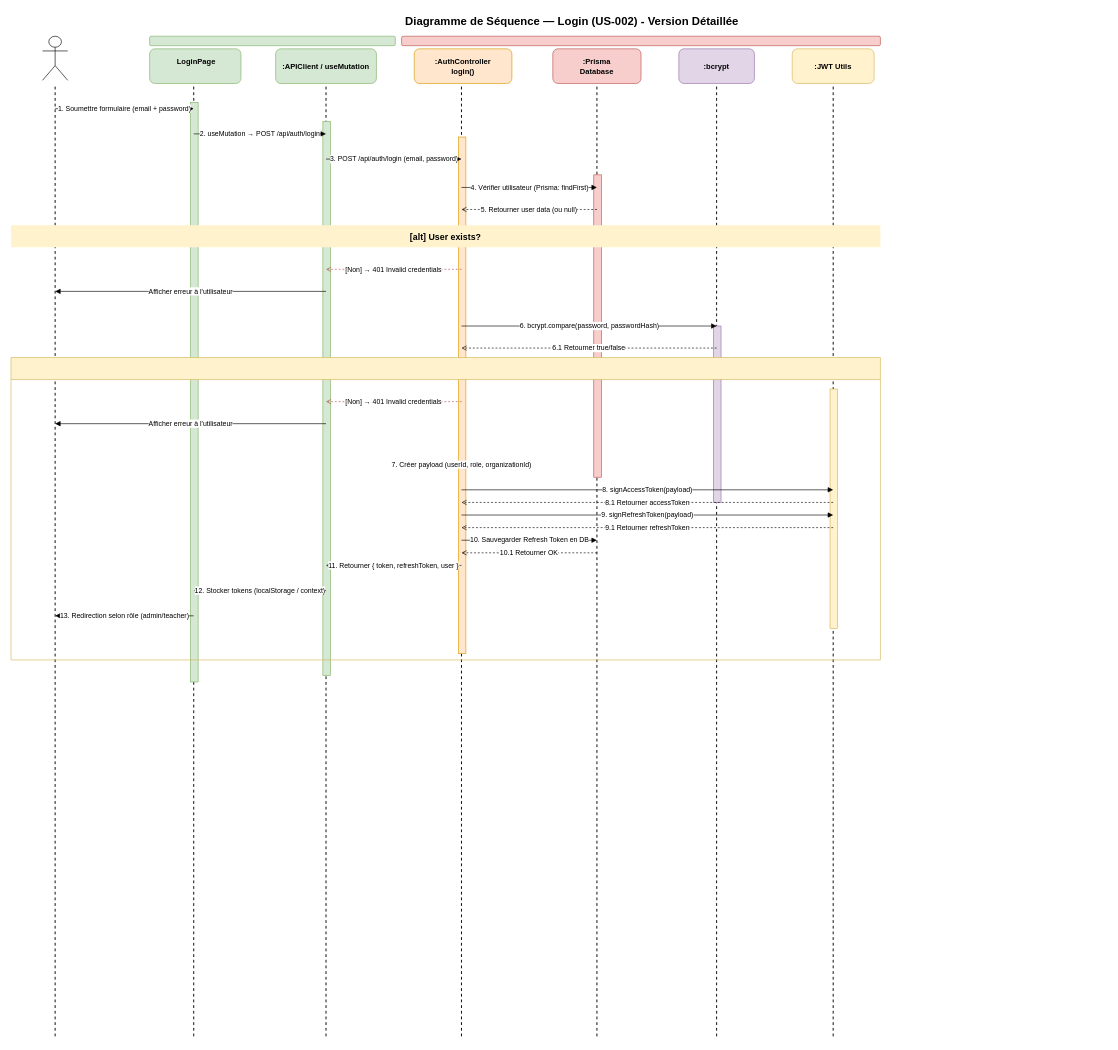
This 1118x1050 diagram has some shape labels left out. Here are the shapes that lost their labels. From the top down, the centre of each, then its label:
the point at 55,58: User
the point at 272,41: Frontend
the point at 640,41: Backend + db
the point at 445,508: [alt] Password correct?
